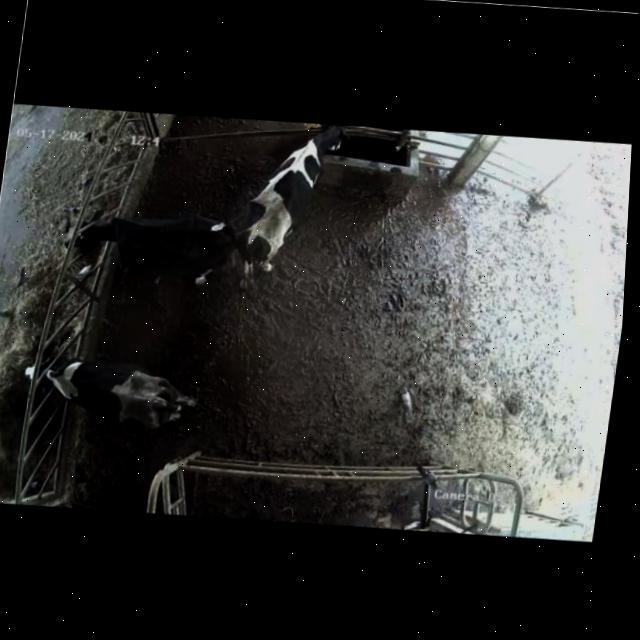drink: (284, 115, 371, 196)
eat: (24, 193, 153, 273), (0, 334, 99, 409)
